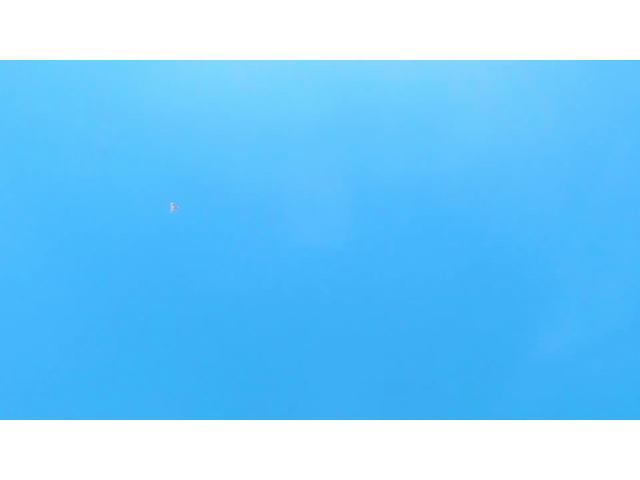Anti-Drone: (156, 196, 196, 220)
